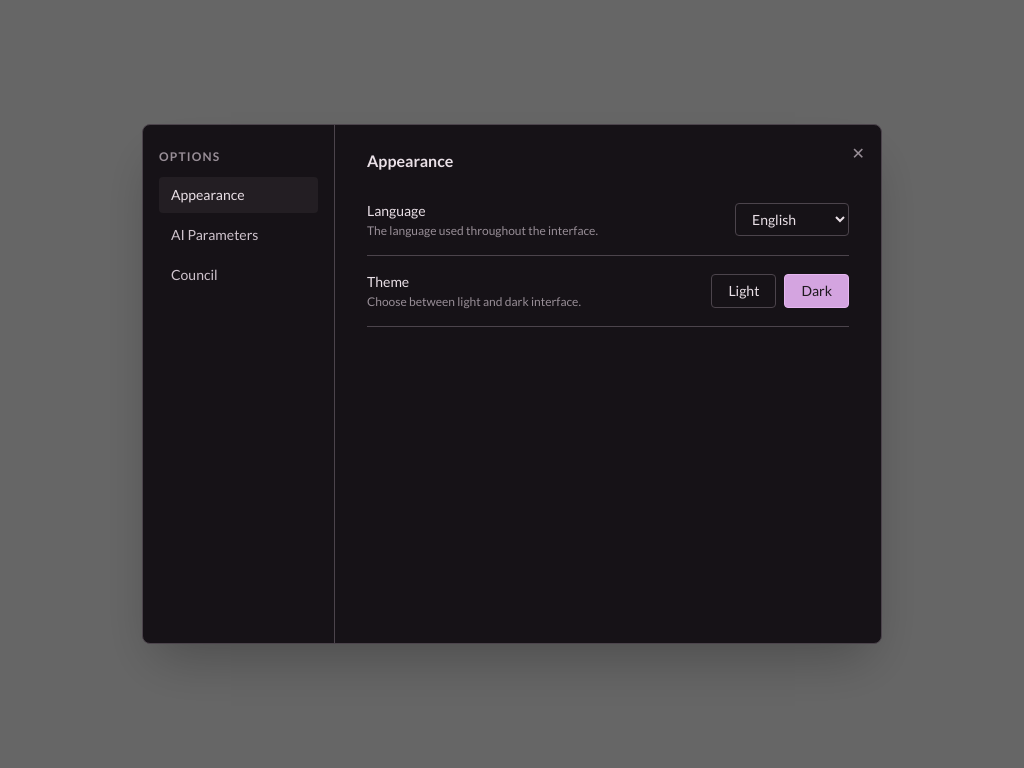
Test: SettingsModal › navigation › shows Parameters content when Parameters nav item is clicked
Click the button "AI parameters" at (238, 235), box [159,217,318,253]
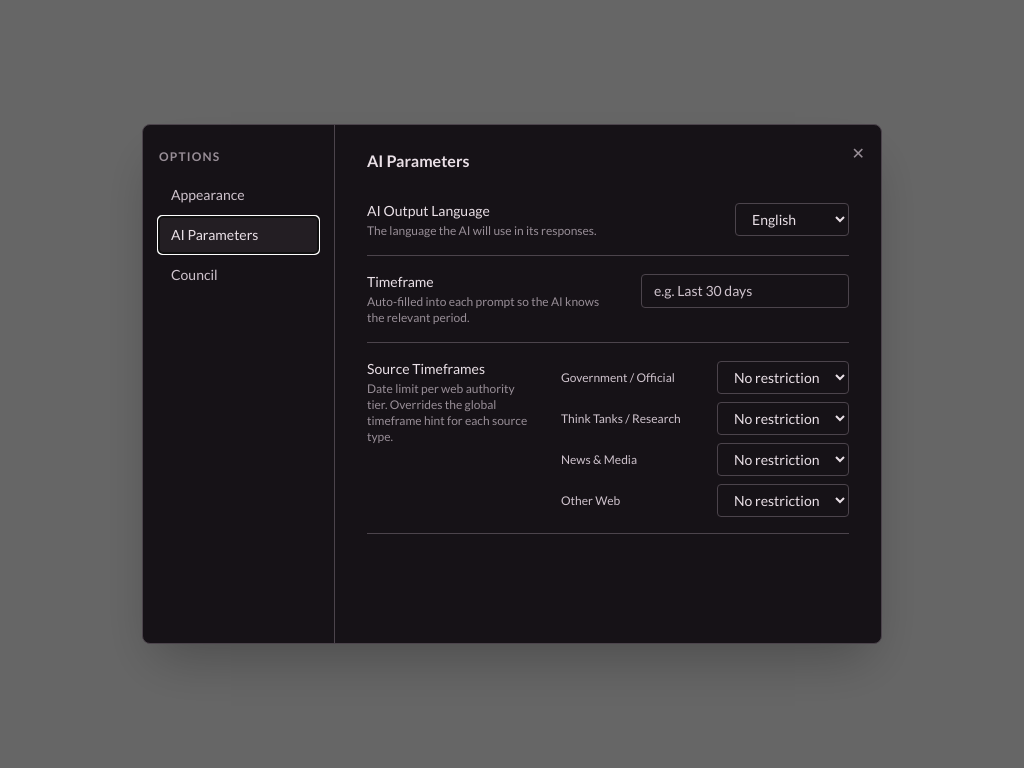
Expected: the field labelled "Timeframe" is shown, [641,274,849,308]
